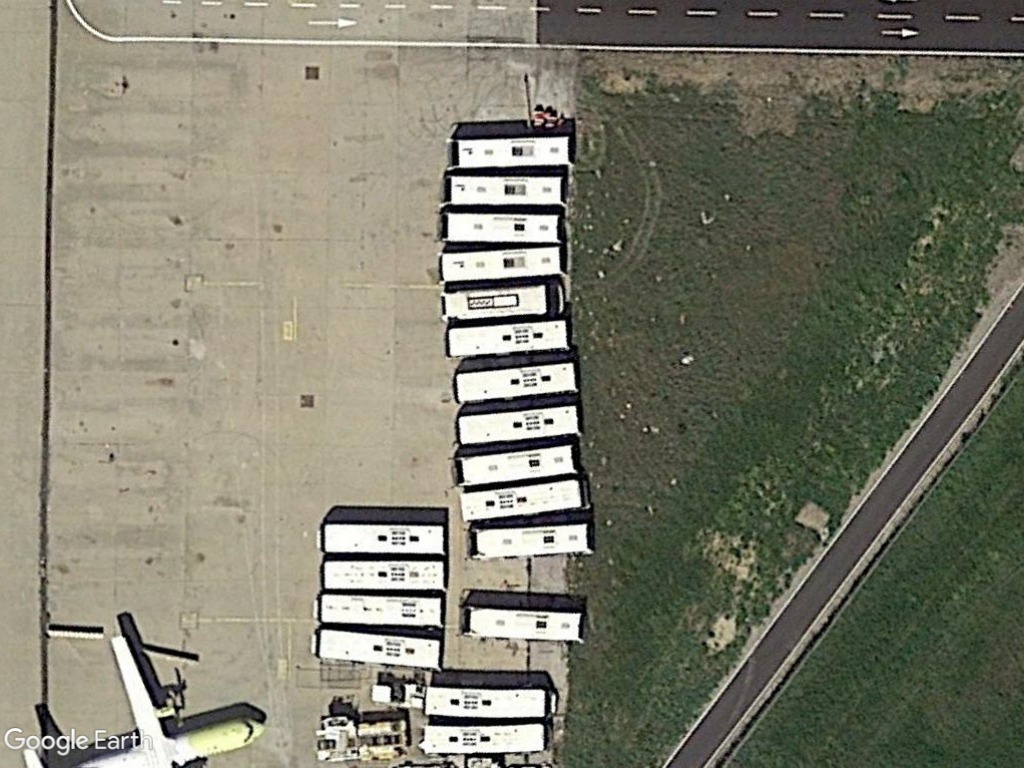bus: (310, 626, 447, 673), (446, 445, 586, 489), (439, 316, 578, 360), (453, 478, 592, 522), (455, 600, 587, 646), (448, 360, 582, 405), (452, 403, 584, 448), (463, 519, 596, 562), (435, 283, 574, 324), (432, 244, 570, 285), (419, 683, 560, 722), (315, 519, 449, 559), (441, 133, 577, 172), (314, 592, 446, 629), (438, 175, 572, 208), (434, 212, 566, 245), (320, 558, 450, 590), (420, 720, 549, 752)
